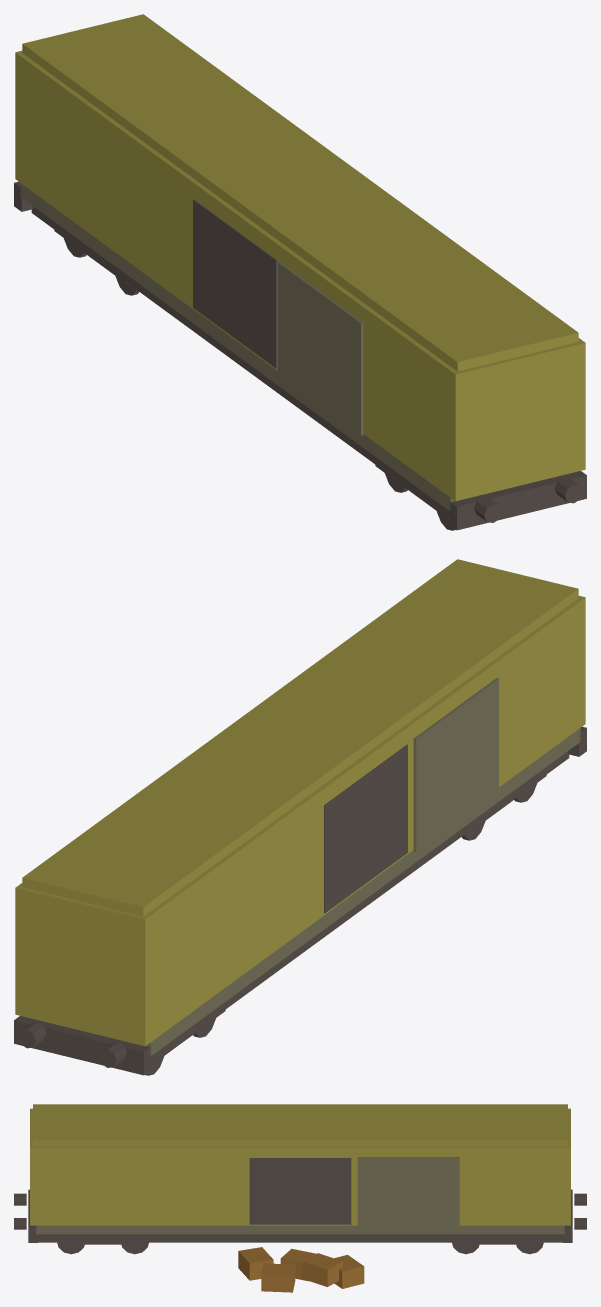
Rendered from SM_VagonAbandonado_v2_Cerrado_LOD0.fbx.
The picture shows the model from 3 angles, top to bottom: view 1: azimuth 30°, elevation 25°; view 2: azimuth 150°, elevation 25°; view 3: azimuth 270°, elevation 25°; orthographic projection. The views are drawn at different scales.
Parts seen in each view (by area): view 1: SM_vagon_abandonado_v2_LOD0; view 2: SM_vagon_abandonado_v2_LOD0; view 3: SM_vagon_abandonado_v2_LOD0.
Boxes of the visible parts, x1=… form: SM_vagon_abandonado_v2_LOD0: x1=14, y1=14, x2=586, y2=530; SM_vagon_abandonado_v2_LOD0: x1=14, y1=559, x2=586, y2=1075; SM_vagon_abandonado_v2_LOD0: x1=14, y1=1104, x2=586, y2=1292.
Size of the model in its own units: 5.71 by 4.15 by 18.
